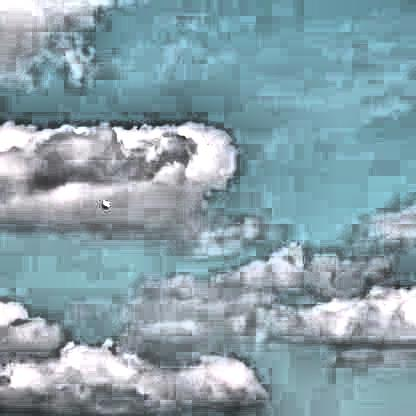golfball: (99, 199, 107, 207)
